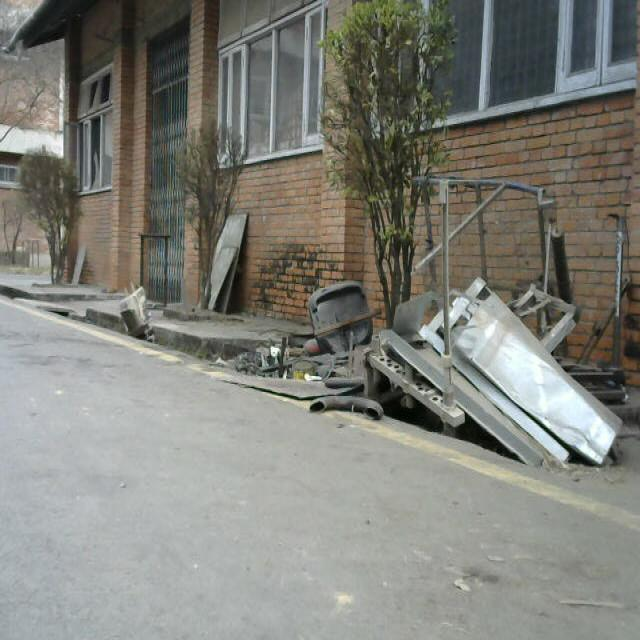Buildings: (27, 9, 360, 283)
Road: (0, 299, 640, 640)
small-obstacles: (413, 165, 640, 499)
trees: (332, 3, 440, 304), (22, 144, 81, 282)
